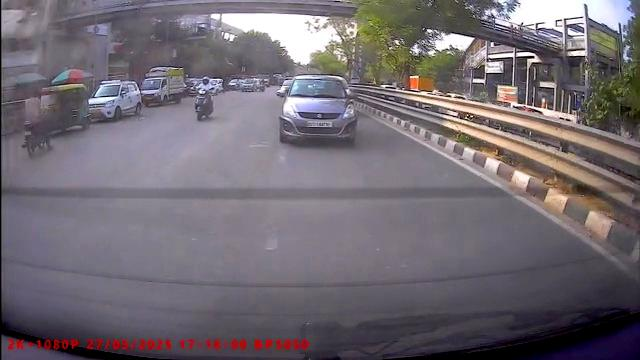motorcycle_with_helmet: (194, 75, 217, 122)
